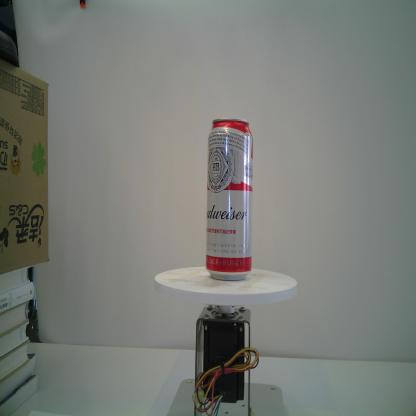Alcohol: (204, 117, 254, 282)
